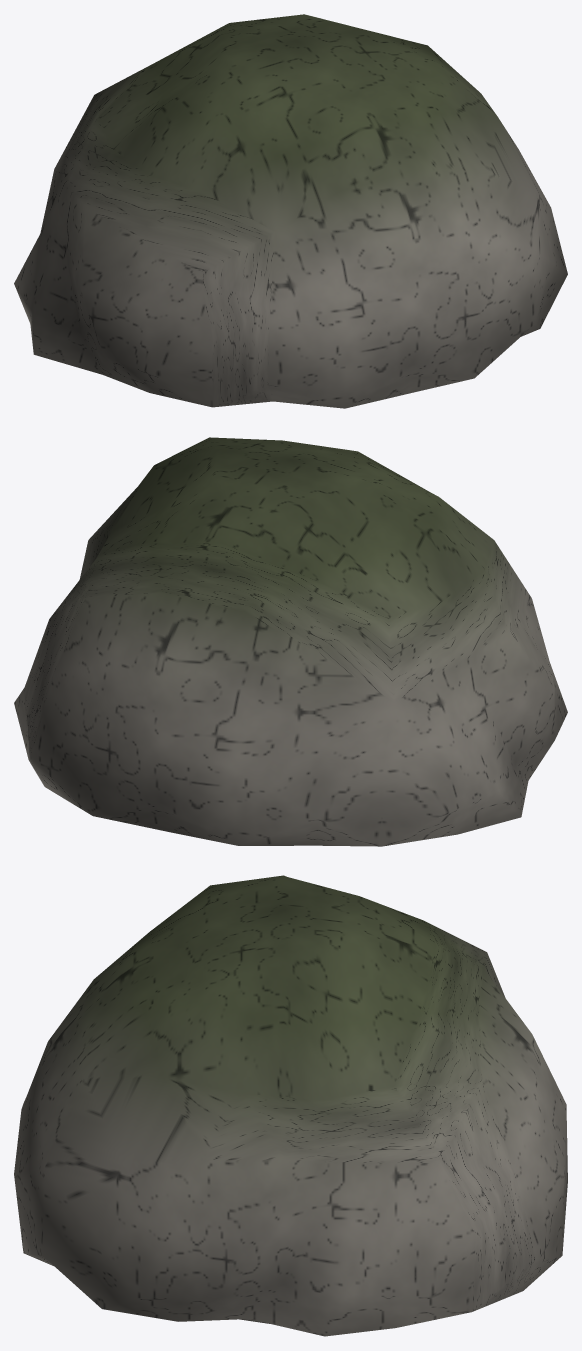
The model's file is rock_b.glb.
The picture shows the model from 3 angles, top to bottom: view 1: azimuth 30°, elevation 25°; view 2: azimuth 150°, elevation 25°; view 3: azimuth 270°, elevation 25°; orthographic projection. The views are drawn at different scales.
Visible parts, largest first — view 1: rock_b; view 2: rock_b; view 3: rock_b.
Boxes of the visible parts, x1,y1,x2,y2 form: rock_b: [14, 14, 567, 408]; rock_b: [14, 437, 567, 846]; rock_b: [14, 875, 567, 1336].
Bounding box in the file's own units: 1.03 × 0.5751 × 0.9396.
Materials: 1 (1 with a texture image).
